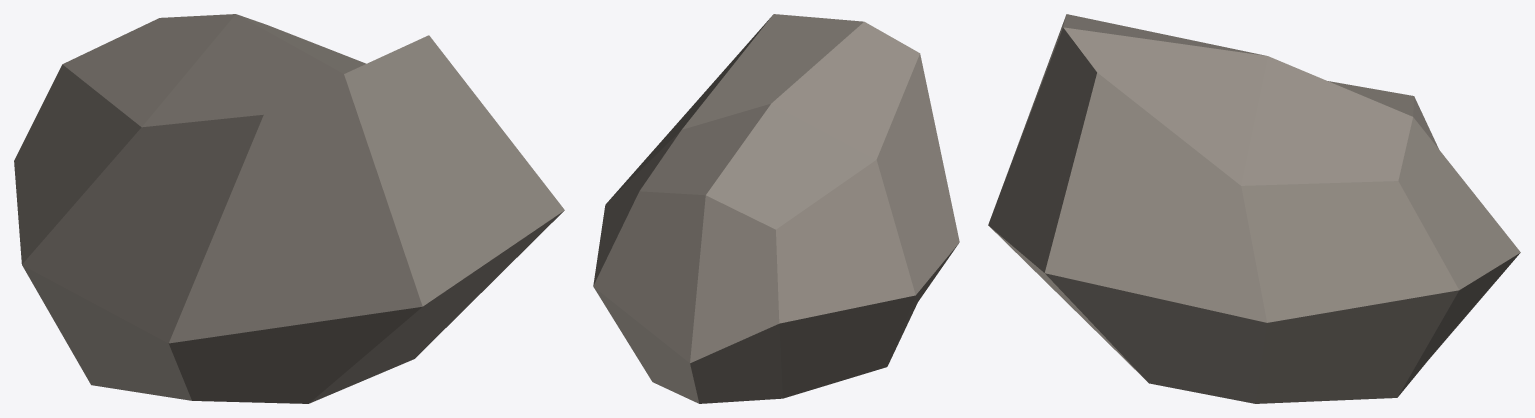
Rendered from Stone.002.glb.
3 views of the same model, side by side, from view 1: azimuth 30°, elevation 25°; view 2: azimuth 150°, elevation 25°; view 3: azimuth 270°, elevation 25° (orthographic). The views are drawn at different scales.
Visible parts, largest first — view 1: Stone.002; view 2: Stone.002; view 3: Stone.002.
Boxes of the visible parts, <box> form: Stone.002: <box>14,14,564,403</box>; Stone.002: <box>593,14,959,403</box>; Stone.002: <box>988,14,1520,403</box>.
Size of the model in its own units: 1.59 by 1.35 by 1.94.
Materials: 1 (1 with a texture image).
